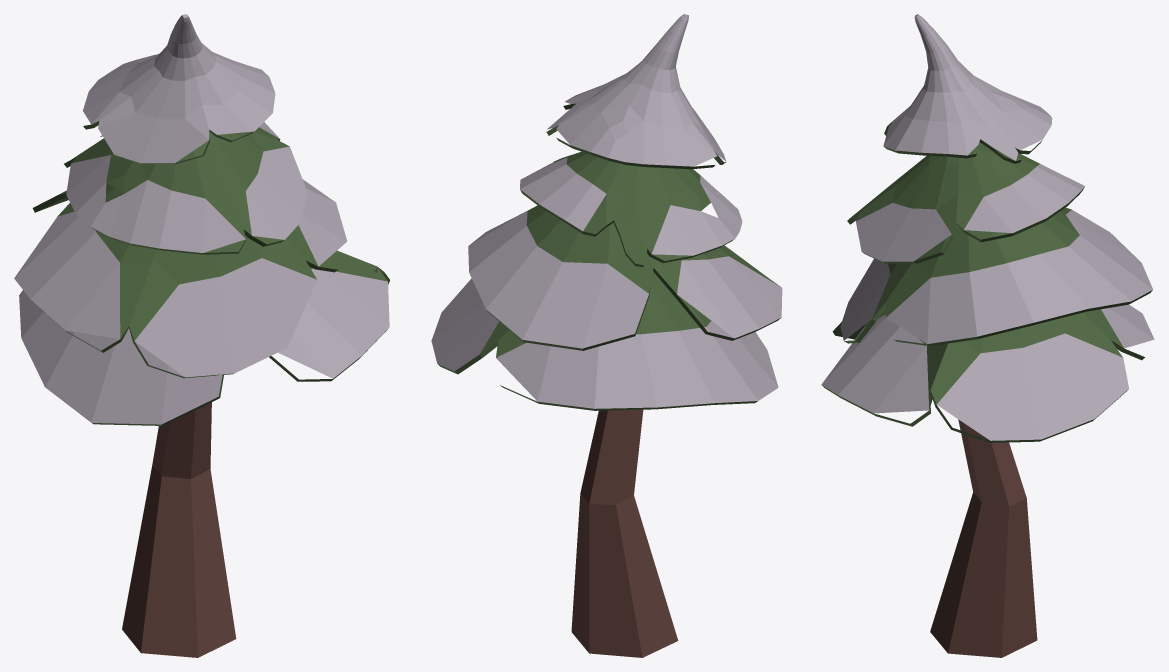
File: snow_pine_3.glb
3 views of the same model, side by side, from view 1: azimuth 30°, elevation 25°; view 2: azimuth 150°, elevation 25°; view 3: azimuth 270°, elevation 25° (orthographic). The views are drawn at different scales.
Parts seen in each view (by area): view 1: PineTree_Snow_5_Cylinder.076; view 2: PineTree_Snow_5_Cylinder.076; view 3: PineTree_Snow_5_Cylinder.076.
Part boxes in pixels (box(x1,y1,x2,y2)): PineTree_Snow_5_Cylinder.076: box(14, 14, 389, 657); PineTree_Snow_5_Cylinder.076: box(431, 14, 782, 657); PineTree_Snow_5_Cylinder.076: box(821, 14, 1154, 657).
Bounding box in the file's own units: 1.47 × 2.69 × 1.34.
